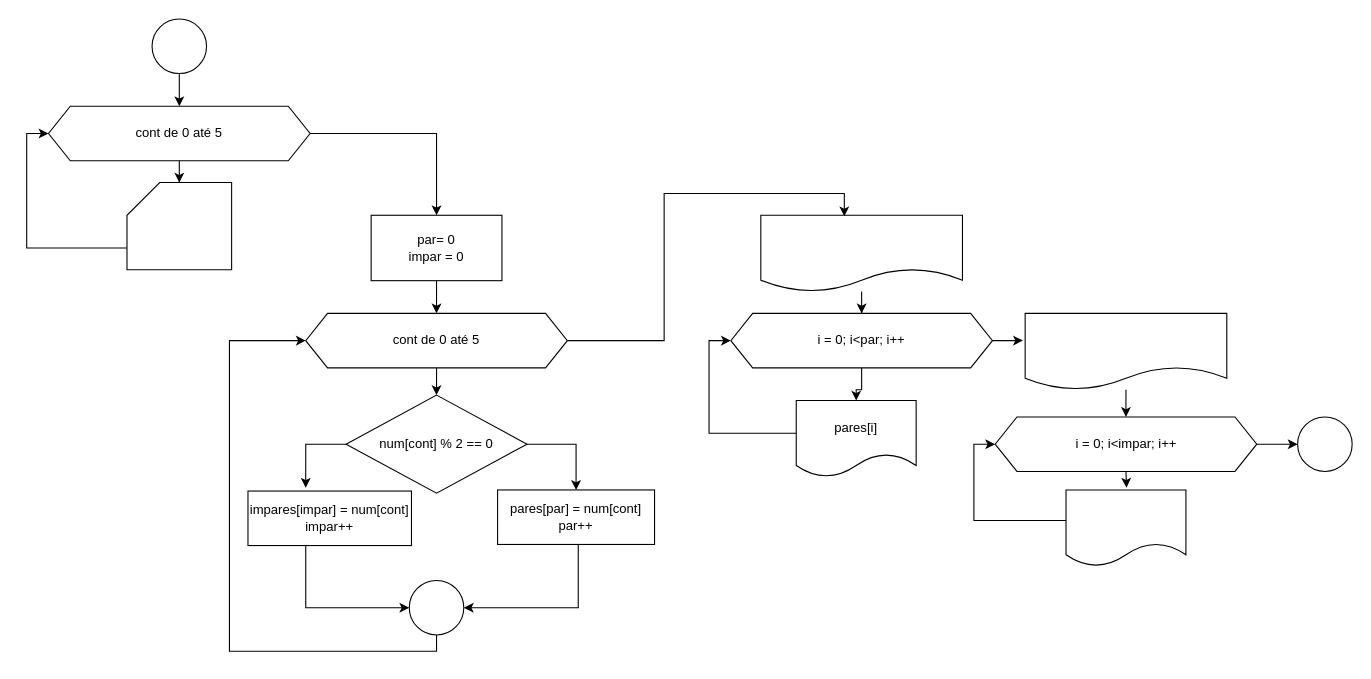
This 1371x679 diagram has some shape labels left out. Here are the shapes that lost their labels. From the top down, the centre of each, then its label:
(x=179, y=225): num[cont]
(x=861, y=253): "A quantidade de pares é: " par
(x=1125, y=351): "A quantidade de impares é: " impar
(x=1125, y=527): impares[i]
